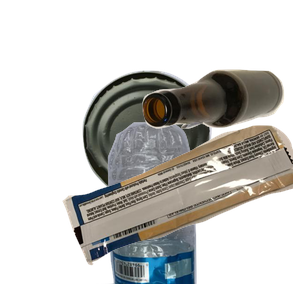glass: (140, 67, 300, 188)
metal: (80, 68, 284, 248)
plastic: (96, 120, 285, 300)
trash: (60, 123, 300, 300)
